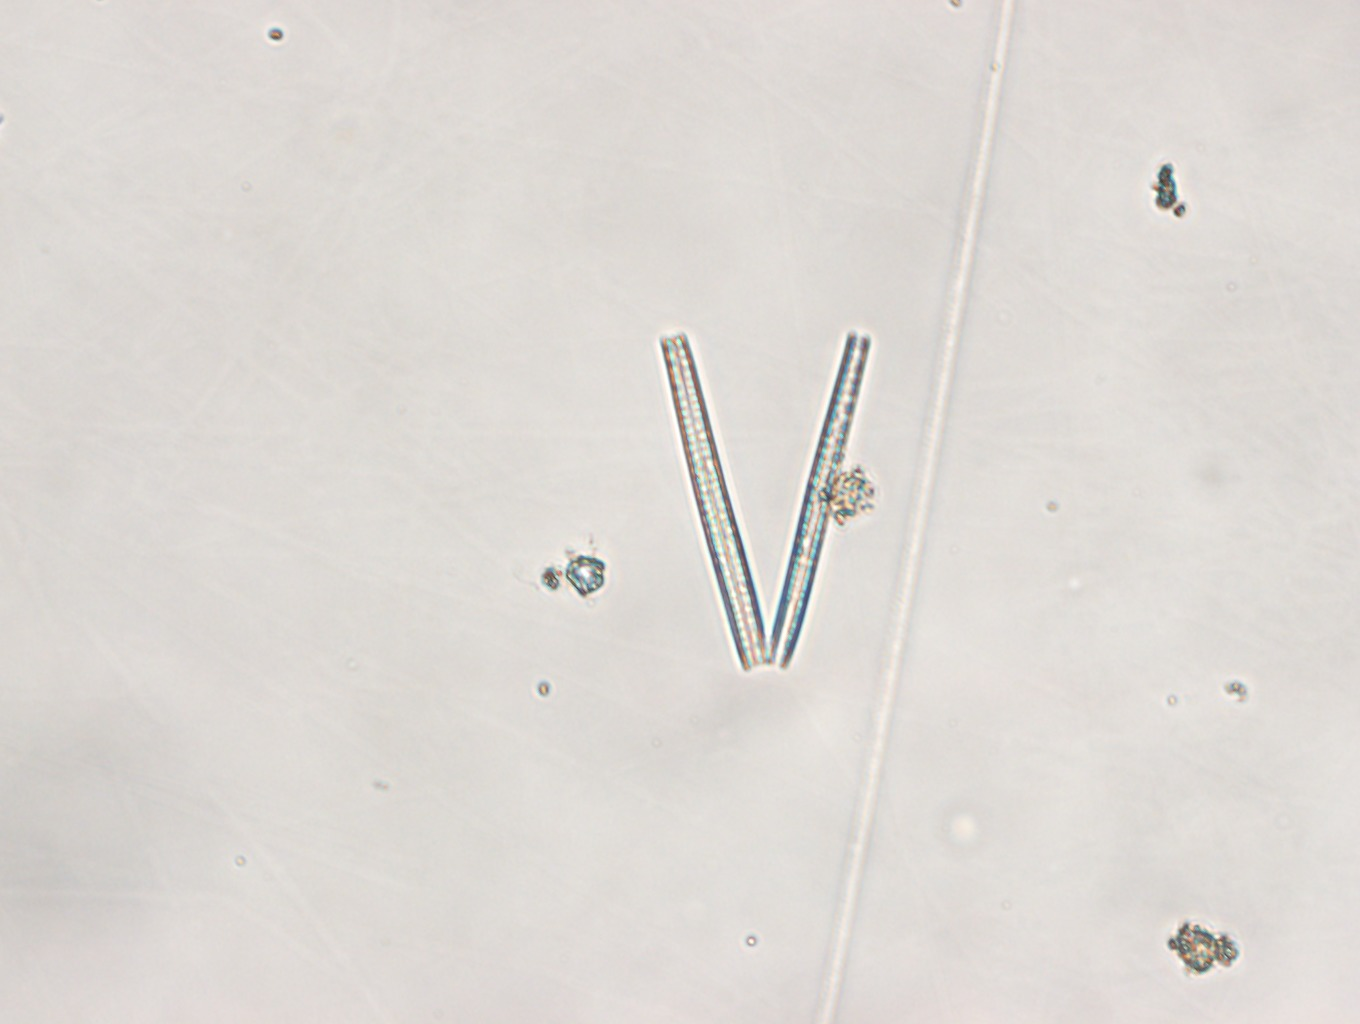thalassionema nitzschioides: (663, 335, 871, 673)
